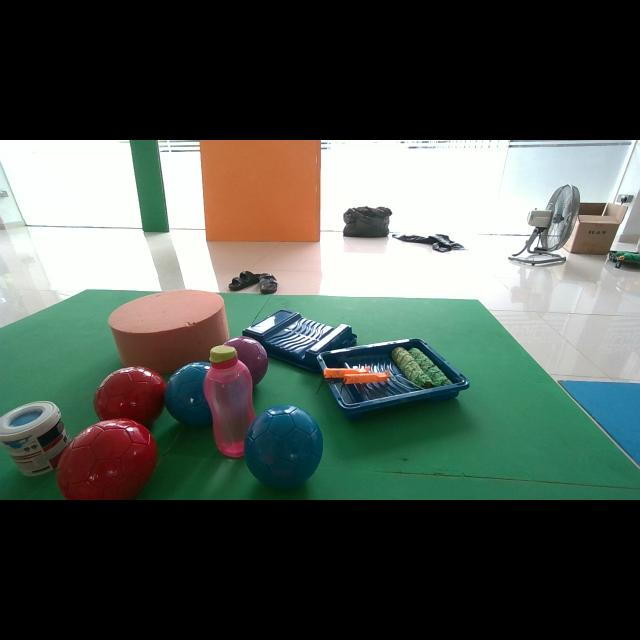B: (244, 405, 322, 489), (164, 361, 212, 426)
P: (224, 336, 269, 386)
R: (55, 419, 158, 498), (94, 366, 166, 426)
